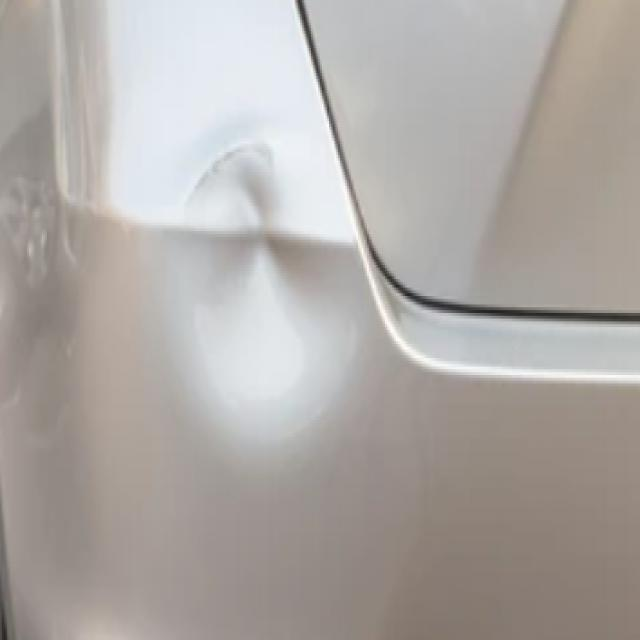dents: (174, 128, 360, 456)
